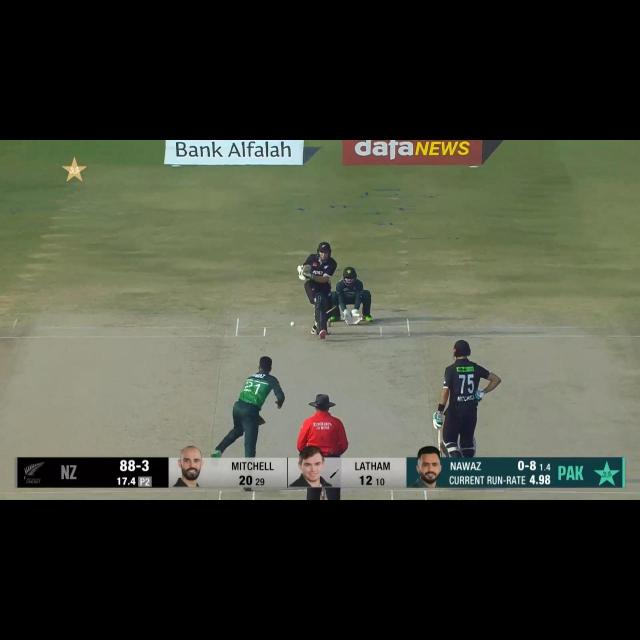bat: (303, 264, 312, 275), (438, 439, 442, 461)
toe: (305, 263, 312, 268)
